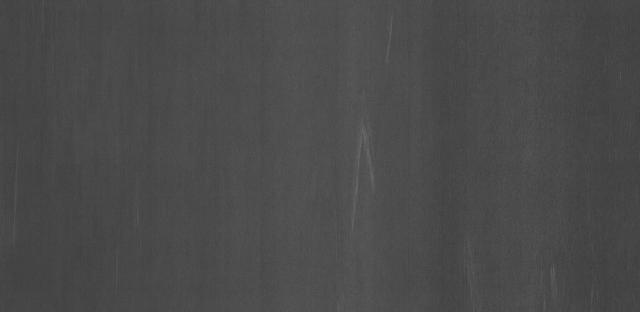silk_spot: (337, 104, 400, 225)
